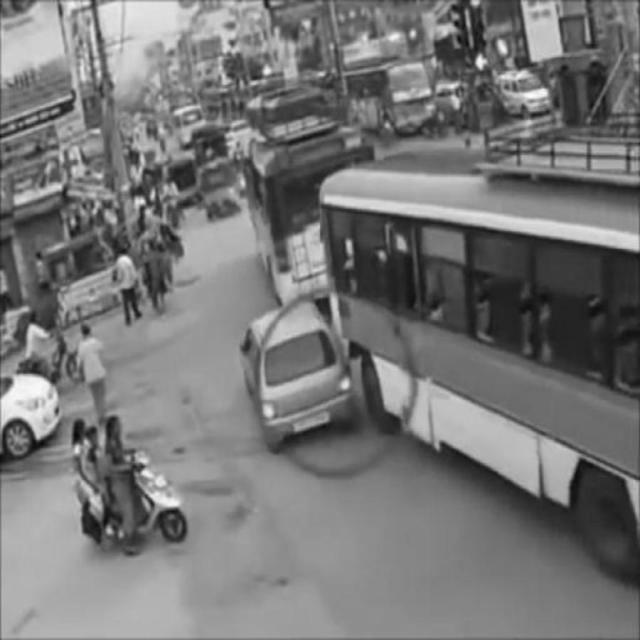accident: (234, 153, 640, 574)
person: (68, 323, 110, 414)
vehicle: (227, 121, 375, 297), (71, 421, 189, 545)
